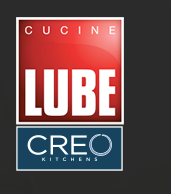creo: (12, 124, 125, 172)
lube: (12, 15, 126, 124)
